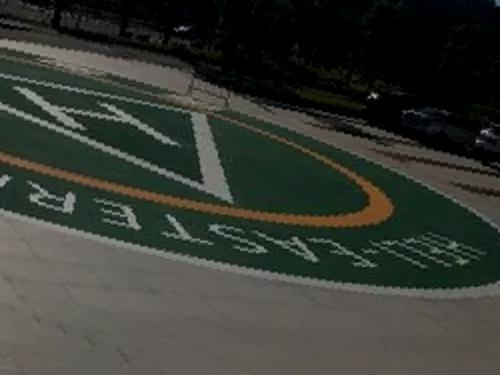Apron: (1, 64, 402, 237)
